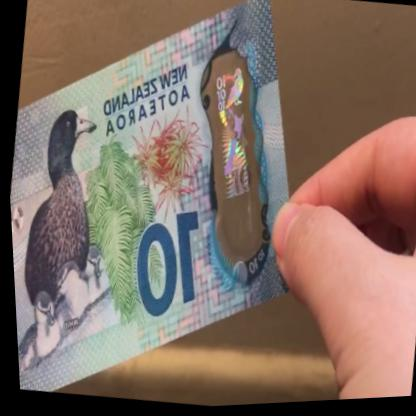10F: (194, 59, 275, 209)
